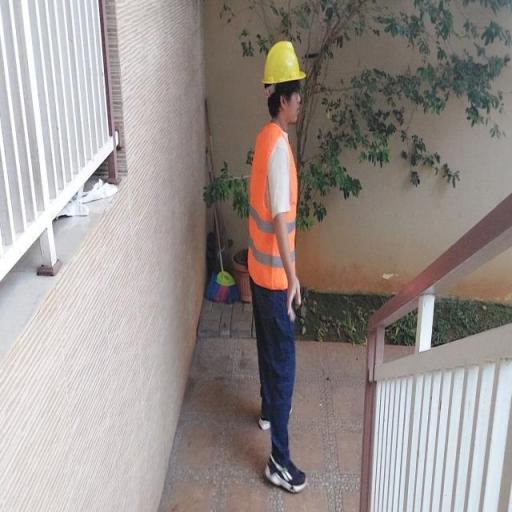Person: (191, 27, 348, 505)
boots: (253, 390, 298, 435), (263, 456, 309, 494)
helmet: (258, 35, 312, 85)
none: (254, 79, 312, 102)
vest: (243, 124, 302, 298)
